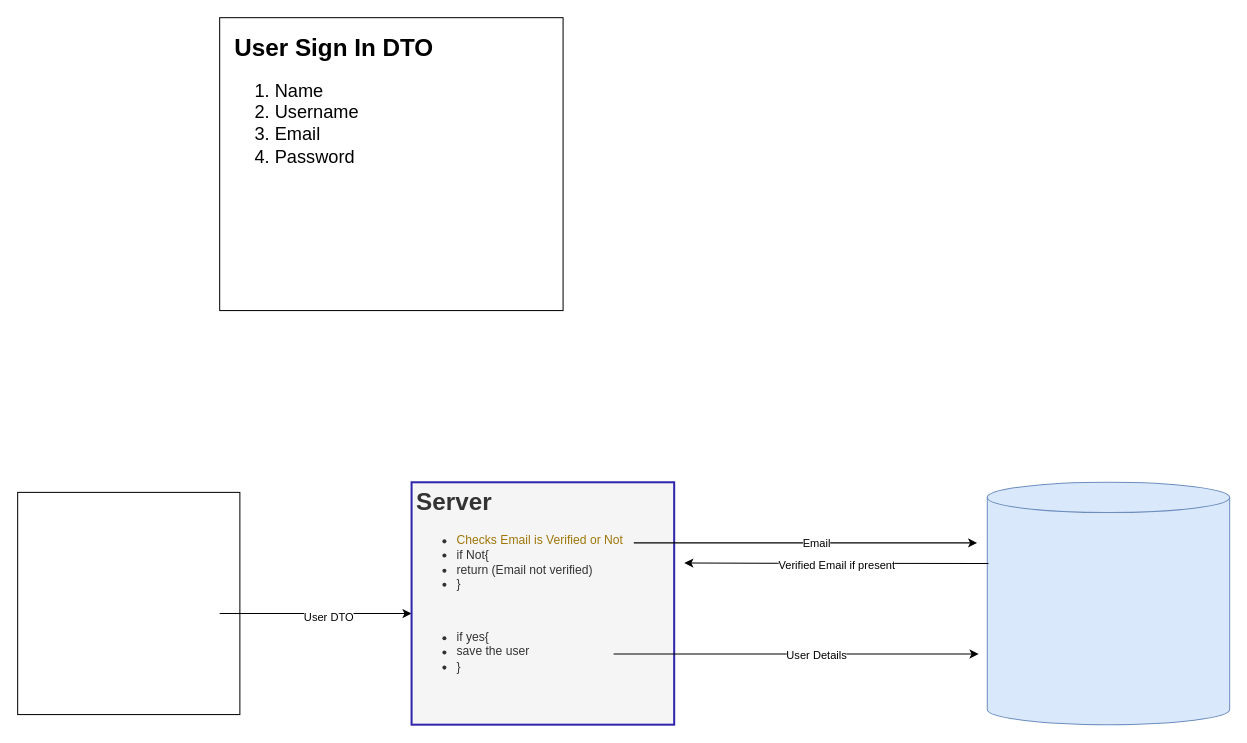
This 1247x743 diagram has some shape labels left out. The centre of each missing label's shape, as x and y in pixels:
"Client Name Username Email (Verified) Password" goes at (x=128, y=603).
"Database Verified Emails Users" goes at (x=1108, y=603).
